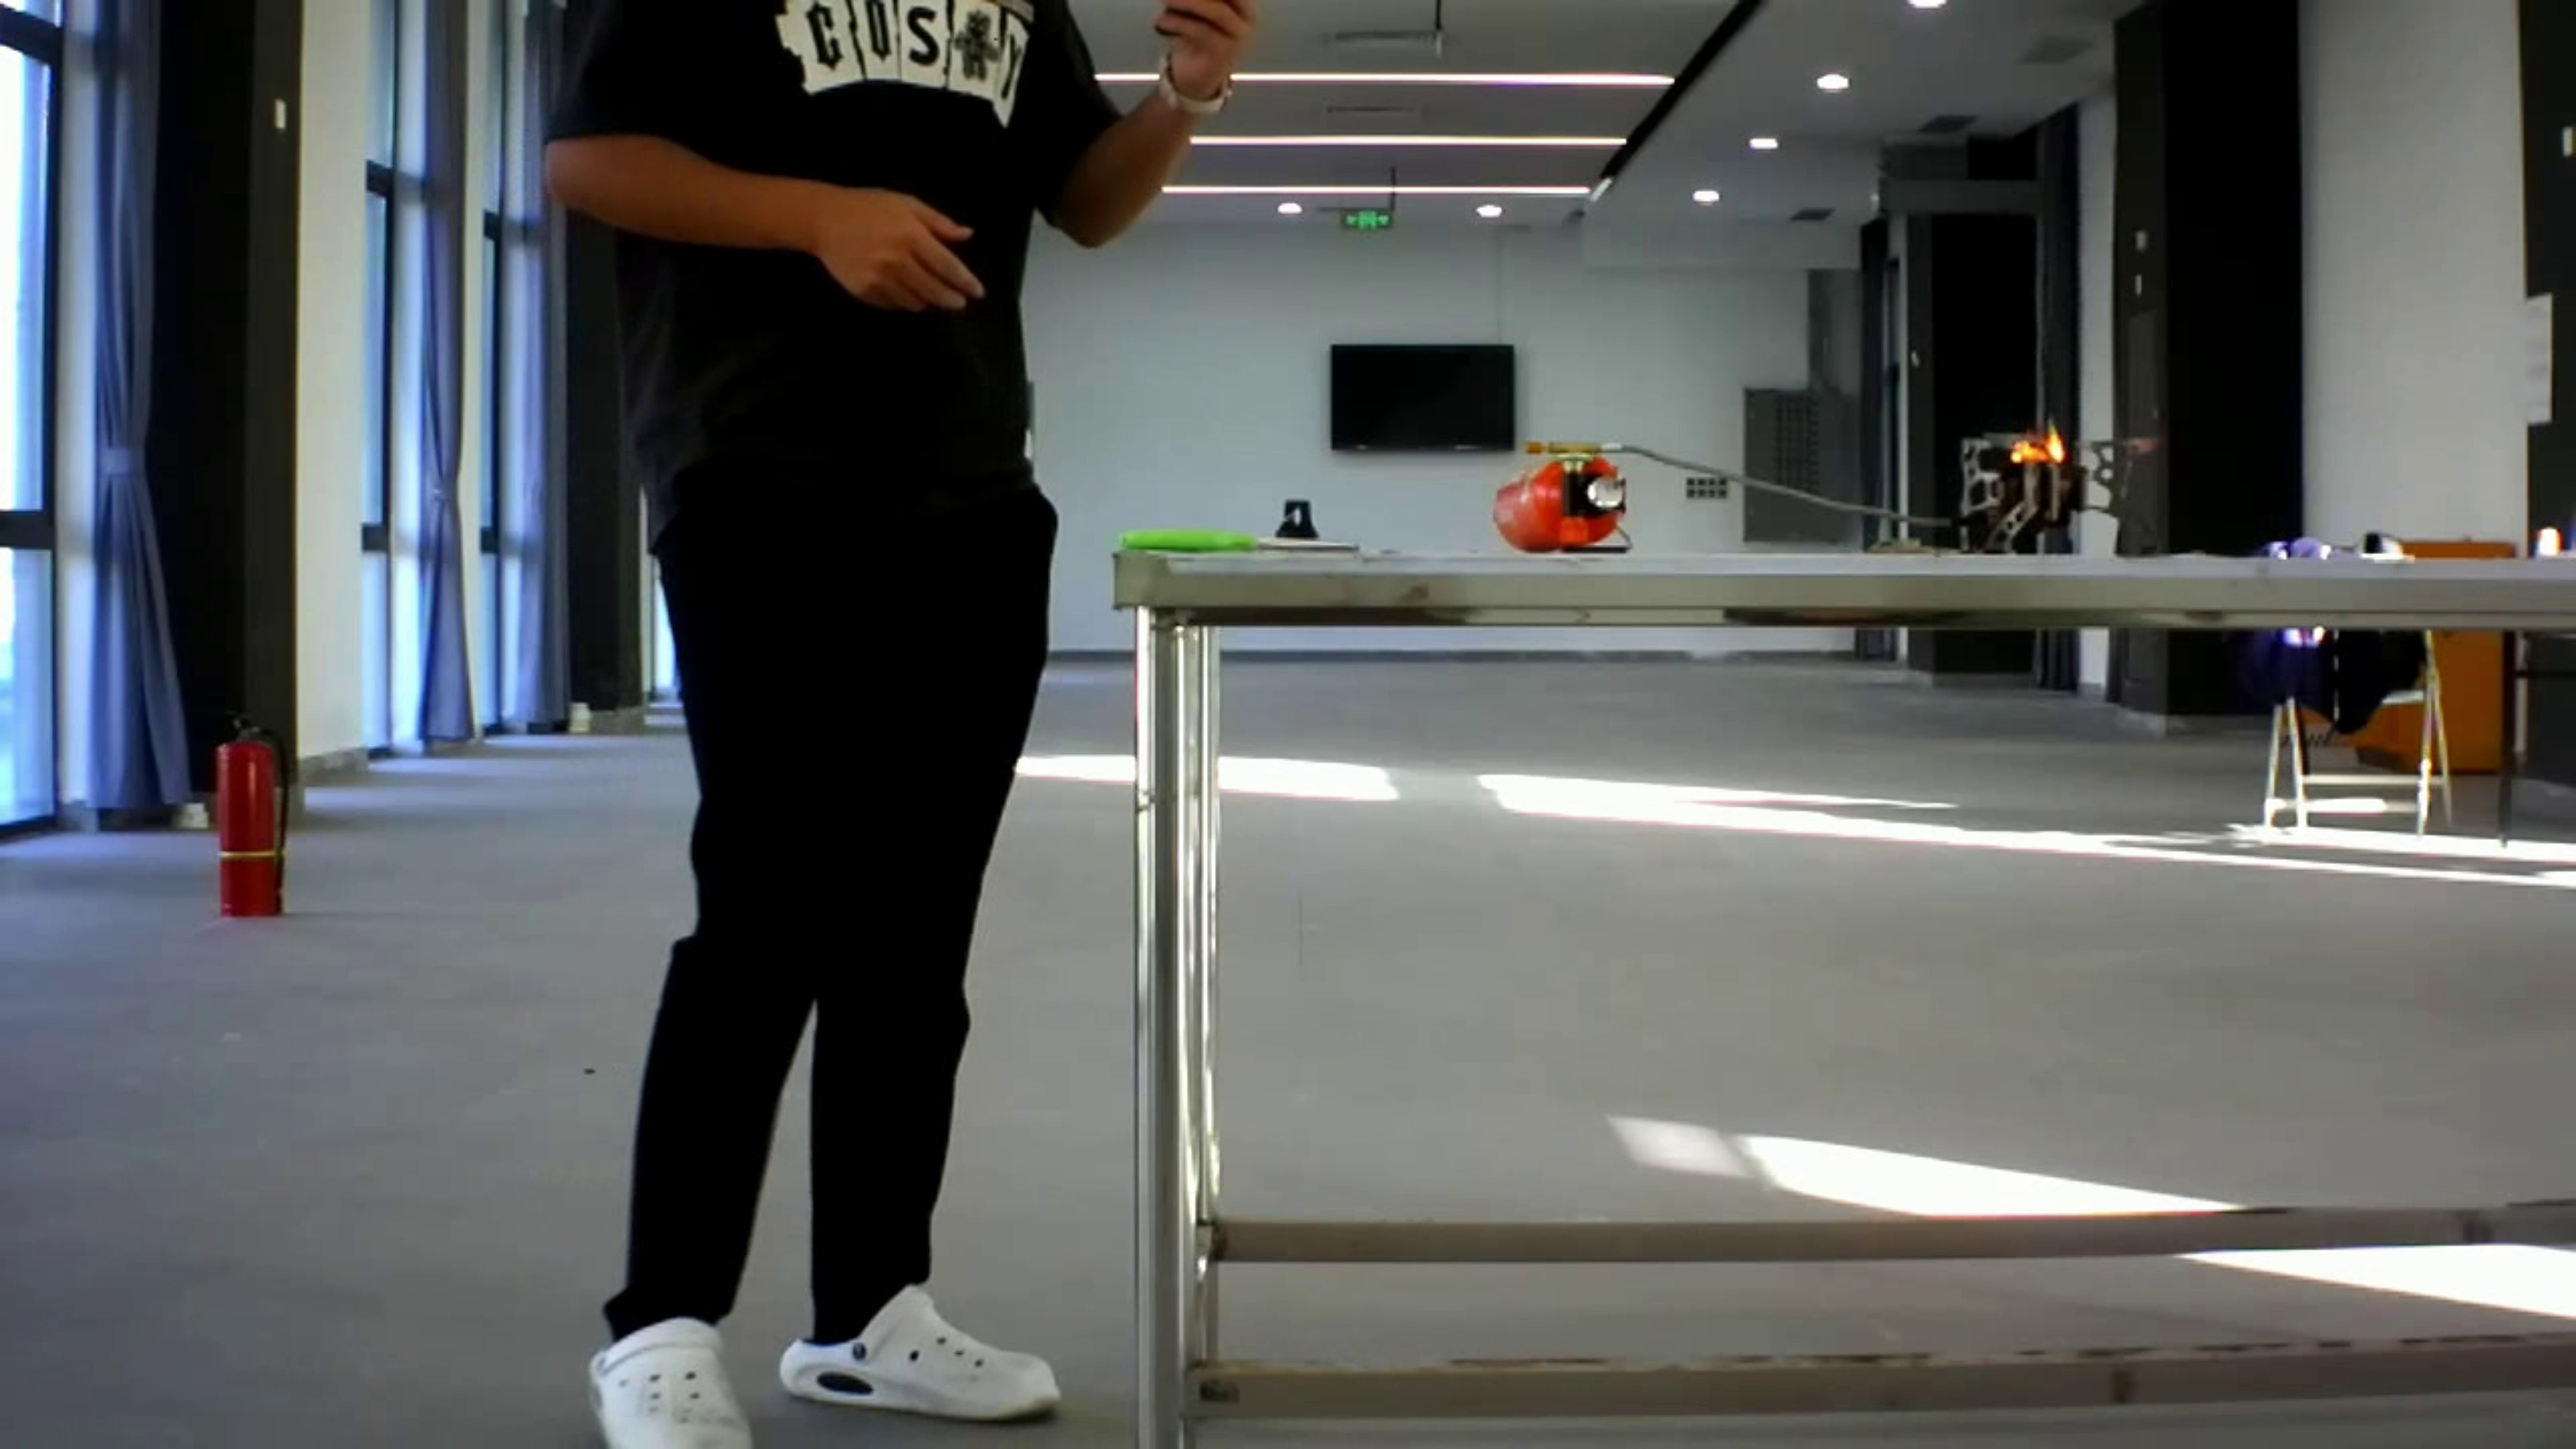Fire: (1994, 410, 2074, 478)
